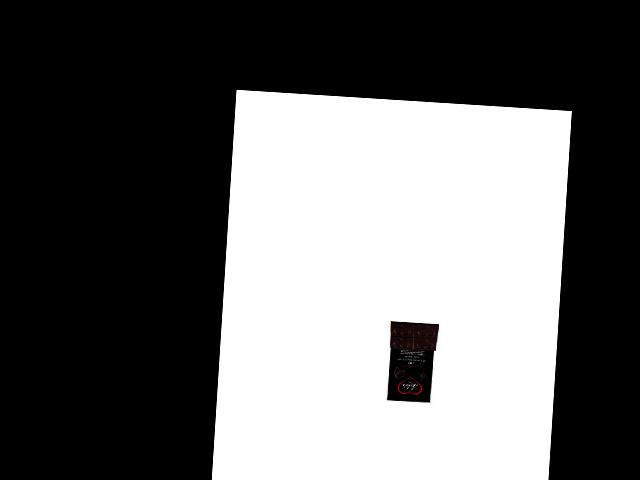chocolate: (384, 317, 442, 403)
